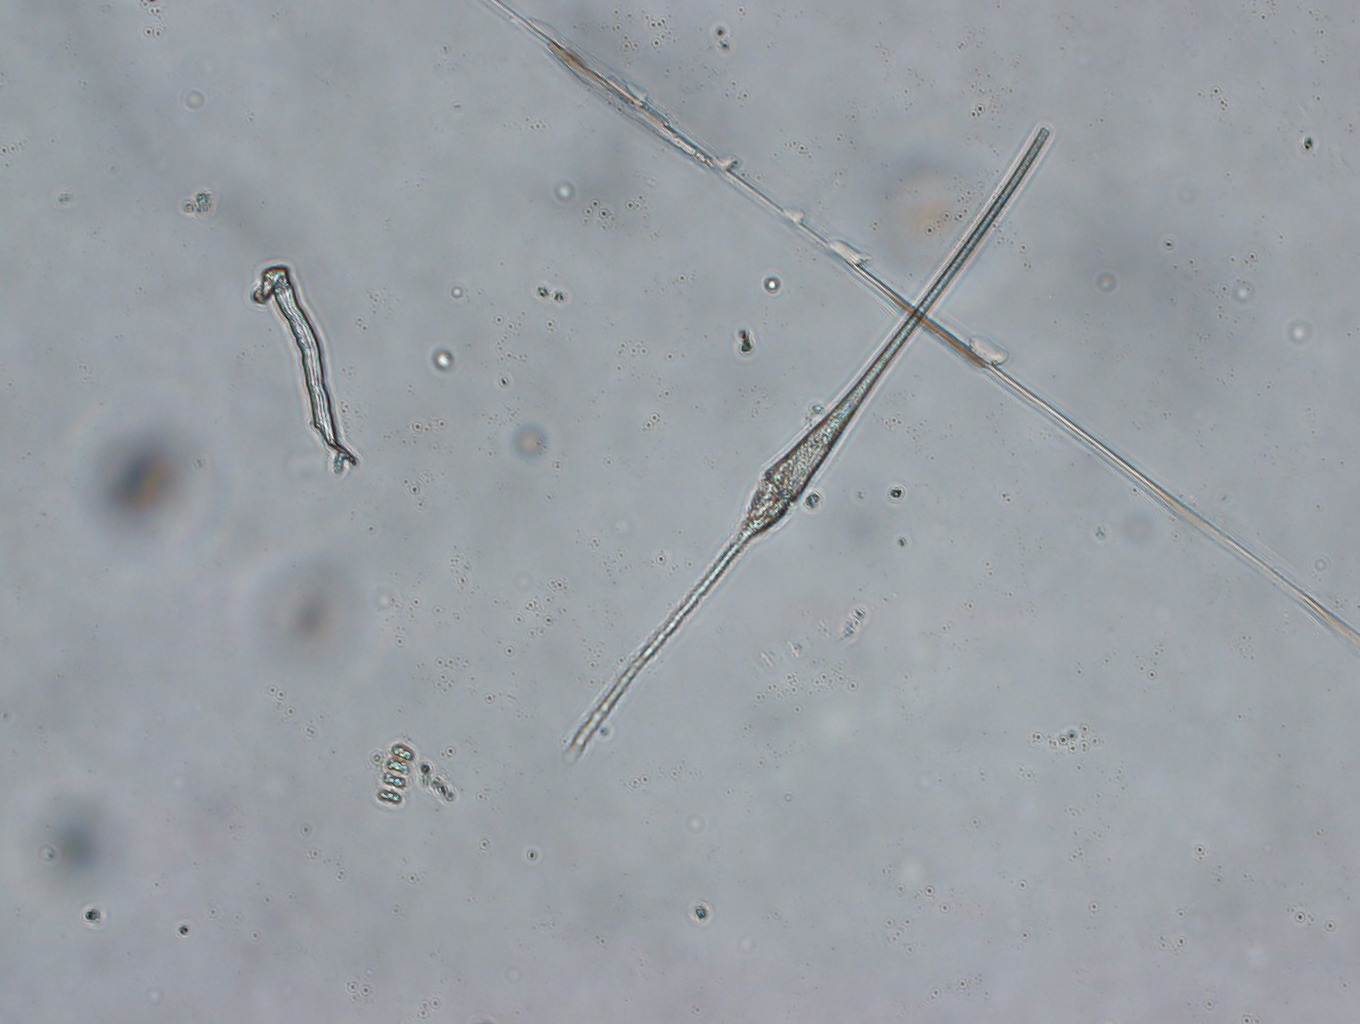ceratium fusus: (562, 122, 1057, 769)
